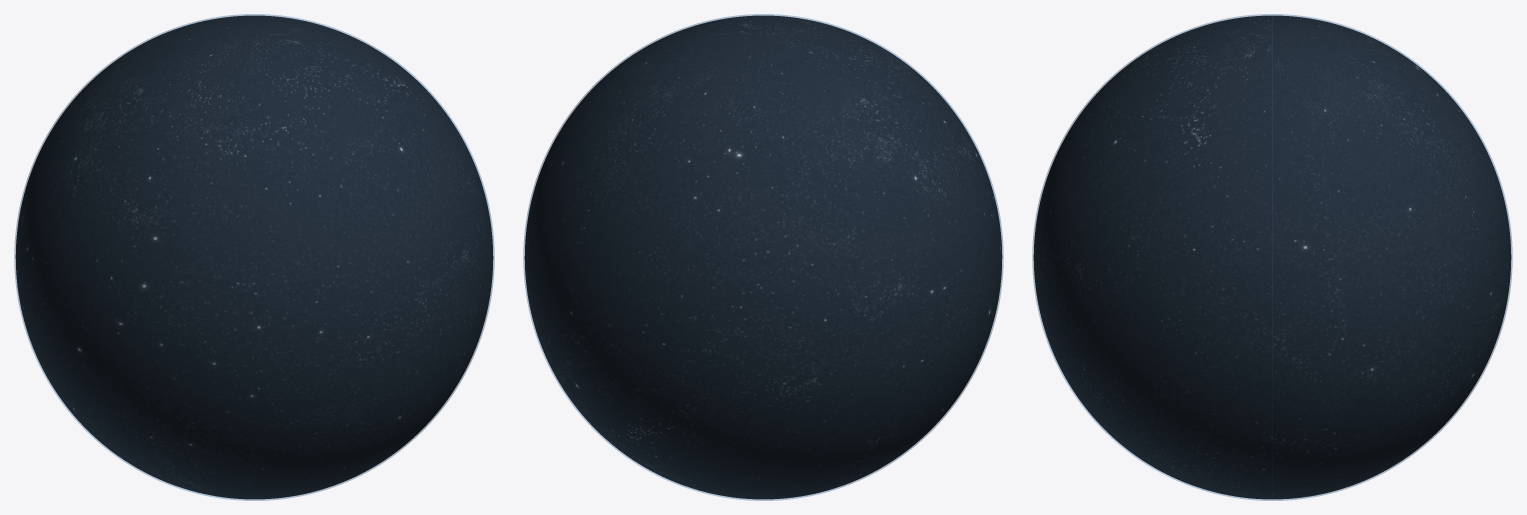
Rendered from earth.glb.
The picture shows the model from 3 angles, left to right: view 1: azimuth 30°, elevation 25°; view 2: azimuth 150°, elevation 25°; view 3: azimuth 270°, elevation 25°; orthographic projection.
Visible parts, largest first — view 1: pSphere5_lambert7_0, pSphere4_lambert6_0; view 2: pSphere5_lambert7_0, pSphere4_lambert6_0; view 3: pSphere5_lambert7_0, pSphere4_lambert6_0.
Part boxes in pixels (bbox=[...]): pSphere5_lambert7_0: bbox=[14, 14, 494, 500]; pSphere4_lambert6_0: bbox=[15, 15, 493, 499]; pSphere5_lambert7_0: bbox=[523, 14, 1003, 500]; pSphere4_lambert6_0: bbox=[524, 15, 1002, 499]; pSphere5_lambert7_0: bbox=[1032, 14, 1512, 500]; pSphere4_lambert6_0: bbox=[1033, 15, 1511, 499].
Size of the model in its own units: 192 by 196 by 192.
3 materials, 2 textured.
